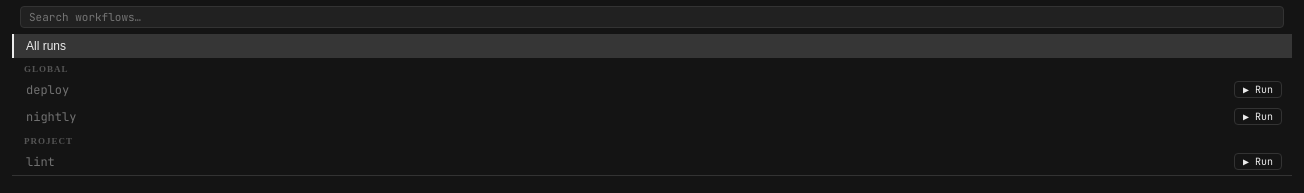
WorkflowDefList › says when nothing matches
Step 1. Type "  nope " into the field with test id "workflow-search" → (652, 17), box [20,6,1284,28]
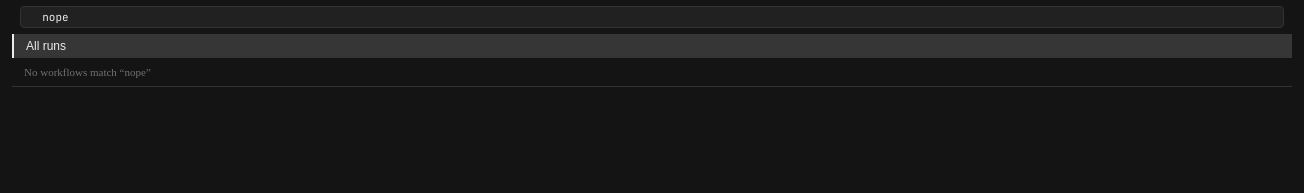
Result: the text "No workflows match “nope”" is shown at [24,66,151,78]
